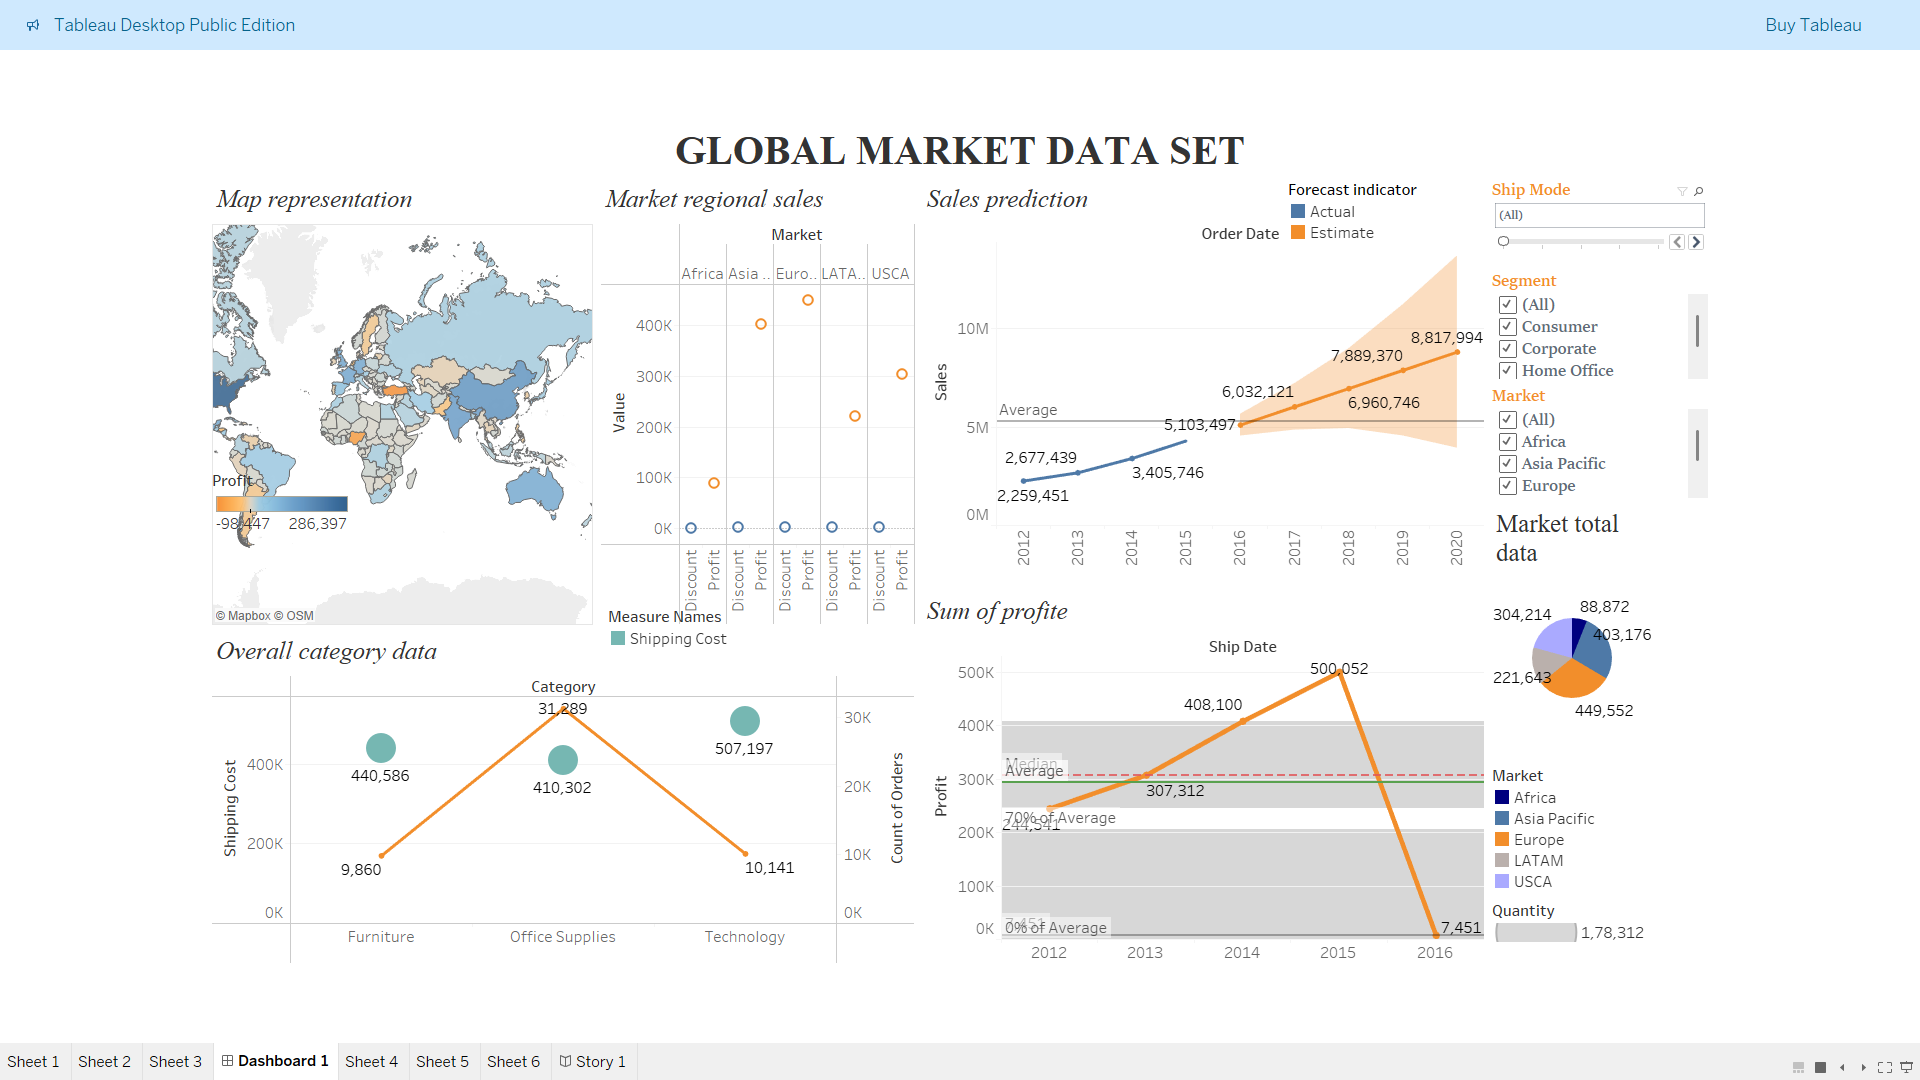

Layout of this report page (visuals, bound fields, positions):
{"tool":"tableau","page":{"name":"Dashboard 1","canvas":[1000,1000],"units":"permille","ordinal":0},"visuals":[{"type":"title","box":[5.3,10,989.5,66.1]},{"type":"legend","title":"Sheet 2","param":"[federated.1nj6qd210zfpyo1dzl5g90oos3fo].[none:Forecast Indicator:nk]","box":[715.8,73.6,88.8,89.8]},{"type":"worksheet","title":"Sheet 3","mark":"Automatic","box":[5.3,76.1,255.6,522.4]},{"type":"worksheet","title":"Sheet 4","mark":"Shape","cols":["Market"],"box":[260.9,76.1,212.2,522.4]},{"type":"worksheet","title":"Sheet 2","mark":"Automatic","rows":["Sales"],"cols":["Order Date"],"box":[473,76.1,374.3,477.6]},{"type":"filter","title":"Sheet 1","param":"[federated.1nj6qd210zfpyo1dzl5g90oos3fo].[none:Ship Mode:nk]","box":[847.4,76.1,147.4,113.5]},{"type":"filter","title":"Sheet 1","param":"[federated.1nj6qd210zfpyo1dzl5g90oos3fo].[none:Segment:nk]","box":[847.4,189.5,147.4,143.4]},{"type":"filter","title":"Sheet 1","param":"[federated.1nj6qd210zfpyo1dzl5g90oos3fo].[none:Market:nk]","box":[847.4,332.9,147.4,148.4]},{"type":"legend","title":"Sheet 3","param":"[federated.1nj6qd210zfpyo1dzl5g90oos3fo].[sum:Profit:qk]","box":[7.9,411.5,92.1,109.7]},{"type":"worksheet","title":"Sheet 6","mark":"Pie","box":[847.4,481.3,147.4,322.9]},{"type":"worksheet","title":"Sheet 1","mark":"Automatic","rows":["Profit"],"cols":["Ship Date"],"box":[473,553.6,374.3,436.4]},{"type":"legend","title":"Sheet 5","param":"[federated.1nj6qd210zfpyo1dzl5g90oos3fo].[:Measure Names]","box":[268.4,569.8,92.1,53.6]},{"type":"worksheet","title":"Sheet 5","mark":"Automatic","rows":["Shipping Cost","Orders_3DD3943F20C242CB870DA2F6CCF628AD"],"cols":["Category"],"box":[5.3,598.5,467.8,391.5]},{"type":"legend","title":"Sheet 6","param":"[federated.1nj6qd210zfpyo1dzl5g90oos3fo].[none:Market:nk]","box":[847.4,804.3,147.4,122.2]},{"type":"legend","title":"Sheet 6","param":"[federated.1nj6qd210zfpyo1dzl5g90oos3fo].[sum:Quantity:qk]","box":[847.4,926.4,147.4,63.6]}]}

Visuals, with their boxes on the dashboard's canvas, which has no fixed pixel size, in thousandths of its width and height (x1, y1, x2, y2). These are canvas units, not pixel positions in the 1920x1080 screenshot, which may show the page scaled, cropped or inside an application window:
title: BBox(5, 10, 995, 76)
"Sheet 2" legend: BBox(716, 74, 805, 163)
"Sheet 3" worksheet: BBox(5, 76, 261, 598)
"Sheet 4" worksheet (Shape marks): BBox(261, 76, 473, 598)
"Sheet 2" worksheet: BBox(473, 76, 847, 554)
"Sheet 1" filter: BBox(847, 76, 995, 190)
"Sheet 1" filter: BBox(847, 190, 995, 333)
"Sheet 1" filter: BBox(847, 333, 995, 481)
"Sheet 3" legend: BBox(8, 412, 100, 521)
"Sheet 6" worksheet (Pie marks): BBox(847, 481, 995, 804)
"Sheet 1" worksheet: BBox(473, 554, 847, 990)
"Sheet 5" legend: BBox(268, 570, 360, 623)
"Sheet 5" worksheet: BBox(5, 598, 473, 990)
"Sheet 6" legend: BBox(847, 804, 995, 926)
"Sheet 6" legend: BBox(847, 926, 995, 990)
